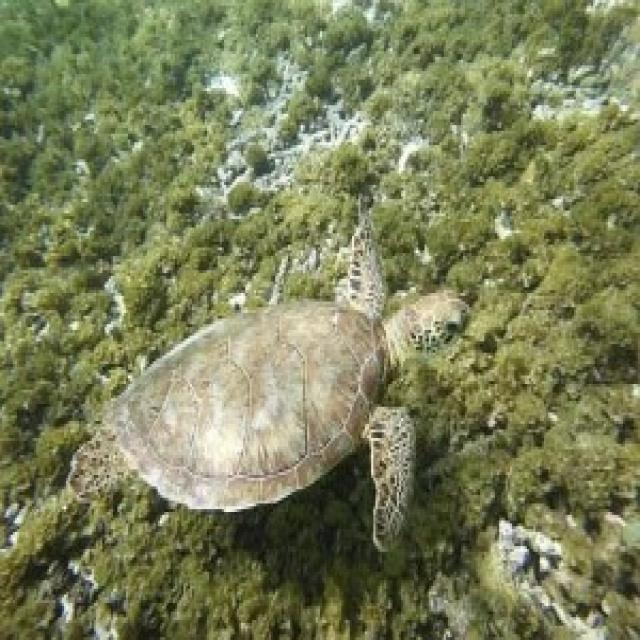Sea turtle: (88, 232, 522, 606)
